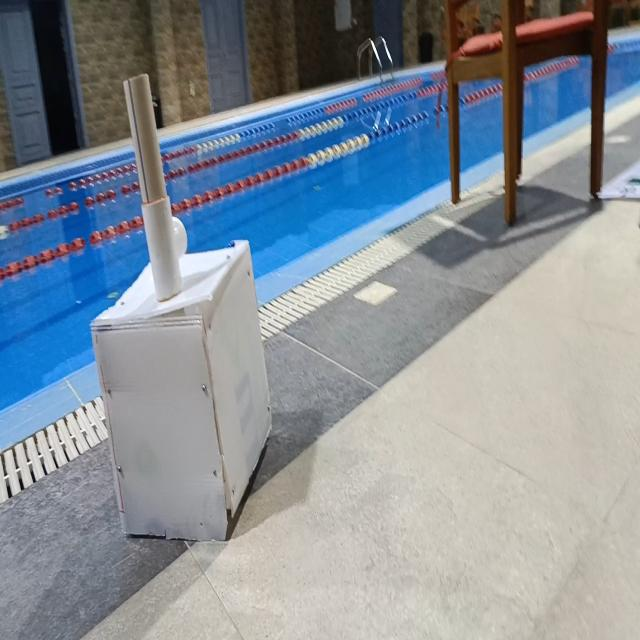Cube: (89, 237, 273, 542)
